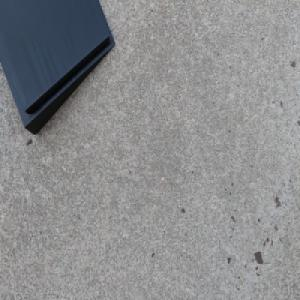PlasticPart: (0, 0, 116, 135)
